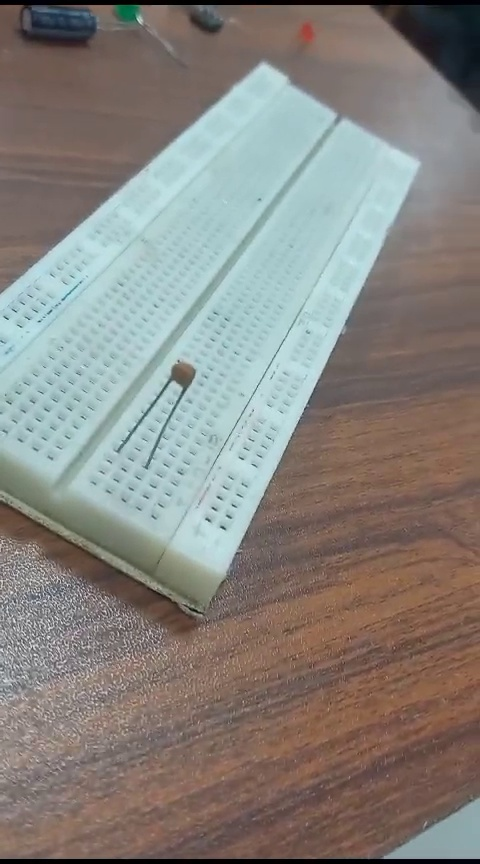ceramic capacitor: (112, 351, 204, 471)
